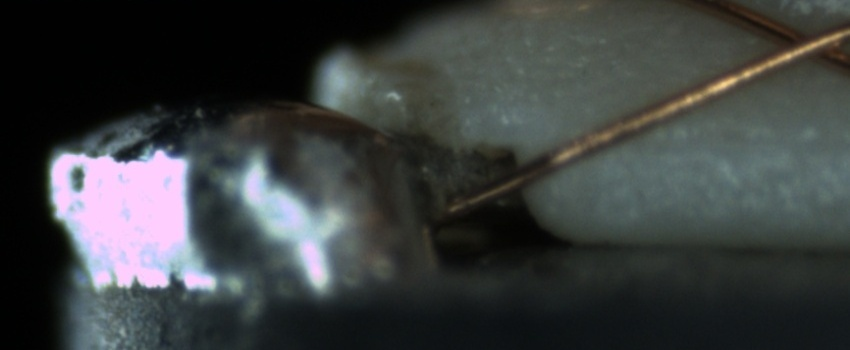CL: (751, 14, 848, 73)
DL: (619, 109, 849, 174)
